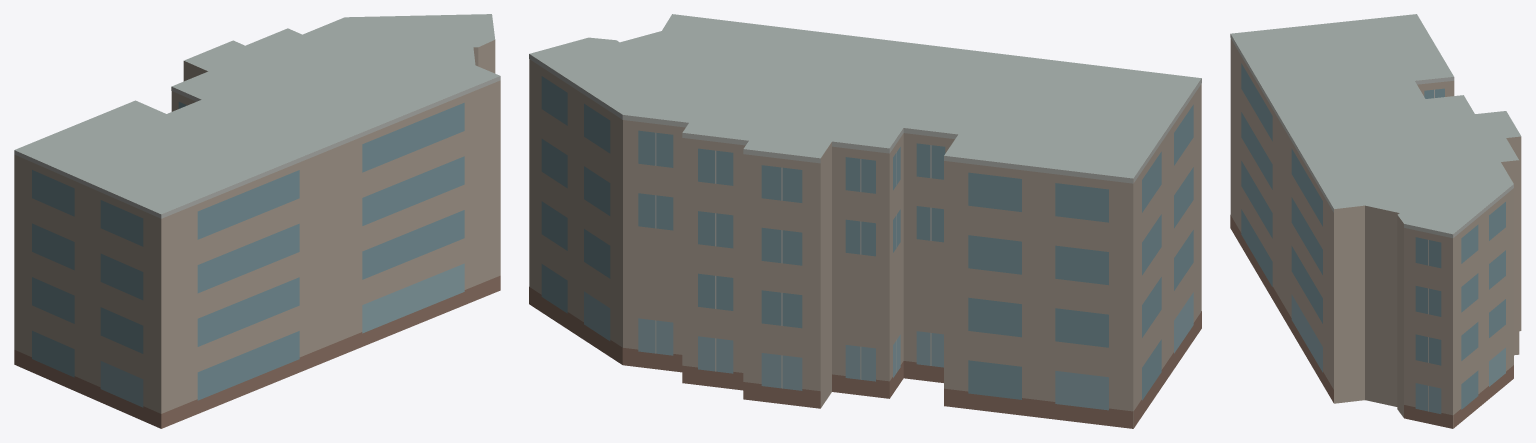
The model's file is survey-upis-32493897.glb.
3 views of the same model, side by side, from view 1: azimuth 30°, elevation 25°; view 2: azimuth 150°, elevation 25°; view 3: azimuth 270°, elevation 25° (orthographic). The views are drawn at different scales.
Visible parts, largest first — view 1: survey-upis-32493897.tmp; view 2: survey-upis-32493897.tmp; view 3: survey-upis-32493897.tmp.
Boxes of the visible parts, <box> form: survey-upis-32493897.tmp: <box>14,14,500,428</box>; survey-upis-32493897.tmp: <box>529,14,1201,428</box>; survey-upis-32493897.tmp: <box>1230,14,1521,428</box>.
Size of the model in its own units: 29.13 by 11.99 by 16.26.
